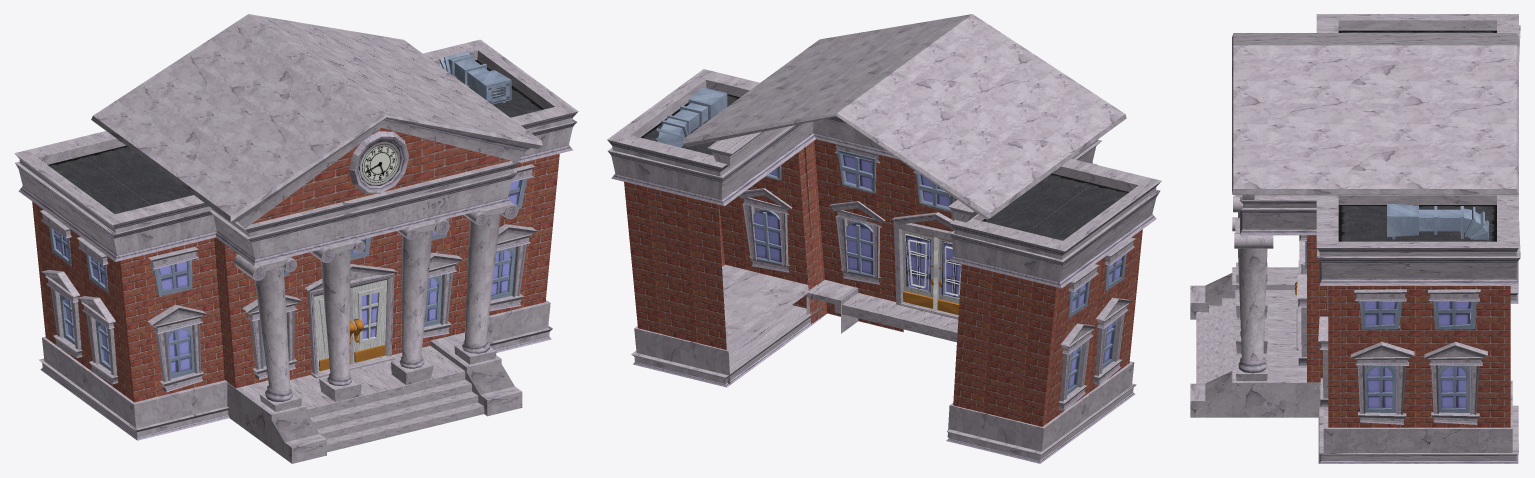
The model's file is AE_BLDG_Library01.fbx.
3 views of the same model, side by side, from view 1: azimuth 30°, elevation 25°; view 2: azimuth 150°, elevation 25°; view 3: azimuth 270°, elevation 25° (orthographic). The views are drawn at different scales.
Visible parts, largest first — view 1: AE_BLDG_Library01; view 2: AE_BLDG_Library01; view 3: AE_BLDG_Library01.
Part boxes in pixels (x1,y1,x2,y2): AE_BLDG_Library01: (14,14,578,463); AE_BLDG_Library01: (607,14,1161,463); AE_BLDG_Library01: (1190,14,1520,463).
Bounding box in the file's own units: 1527 × 958 × 911.
